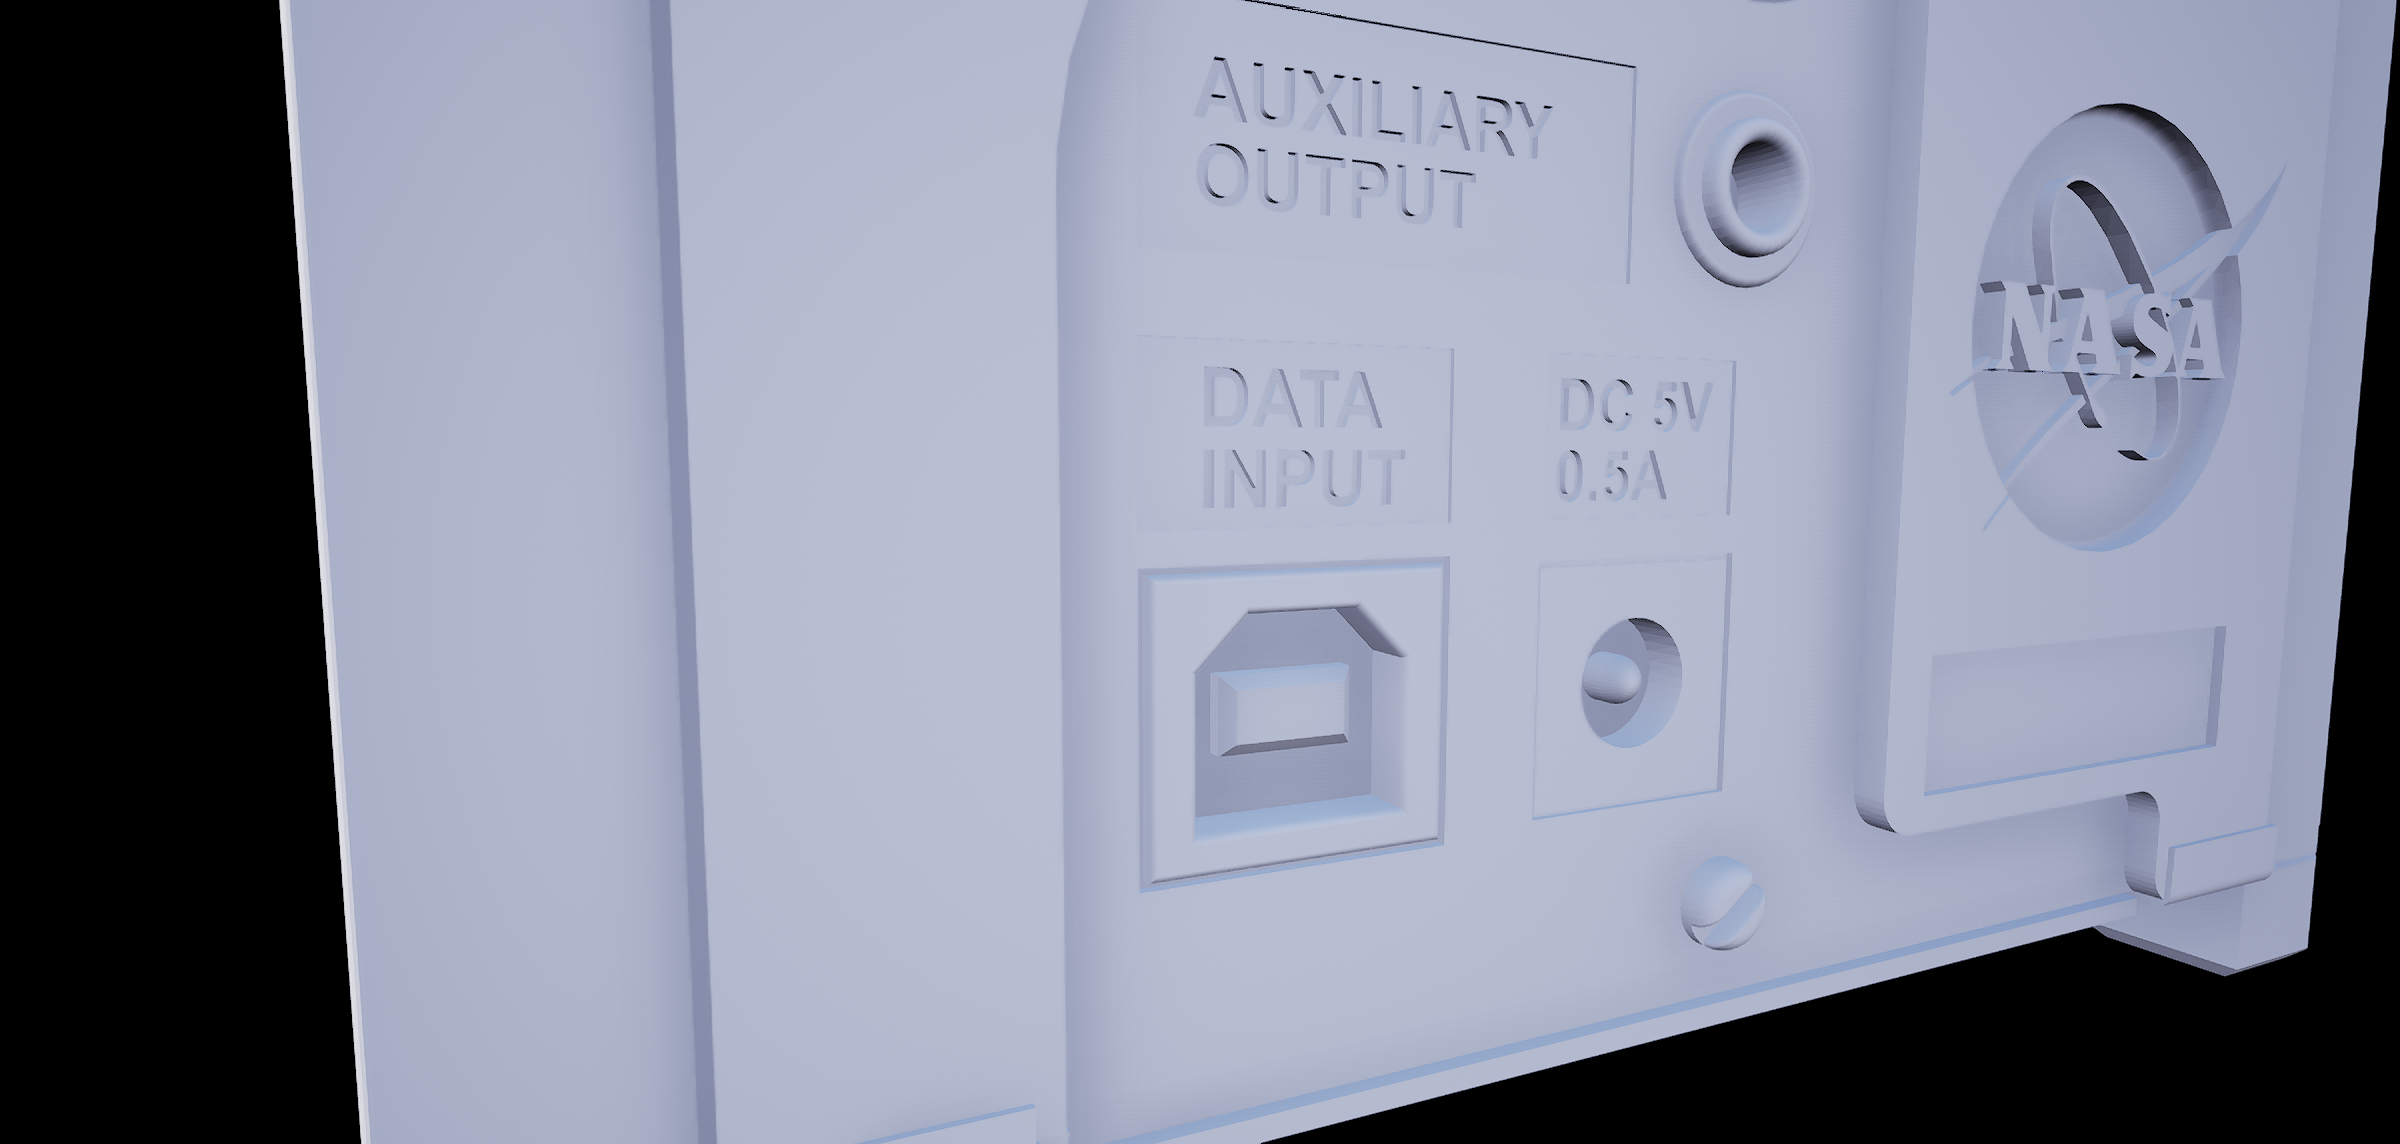aux: (1668, 70, 1837, 308)
dc: (1572, 610, 1694, 773)
usb: (1185, 588, 1427, 836)
